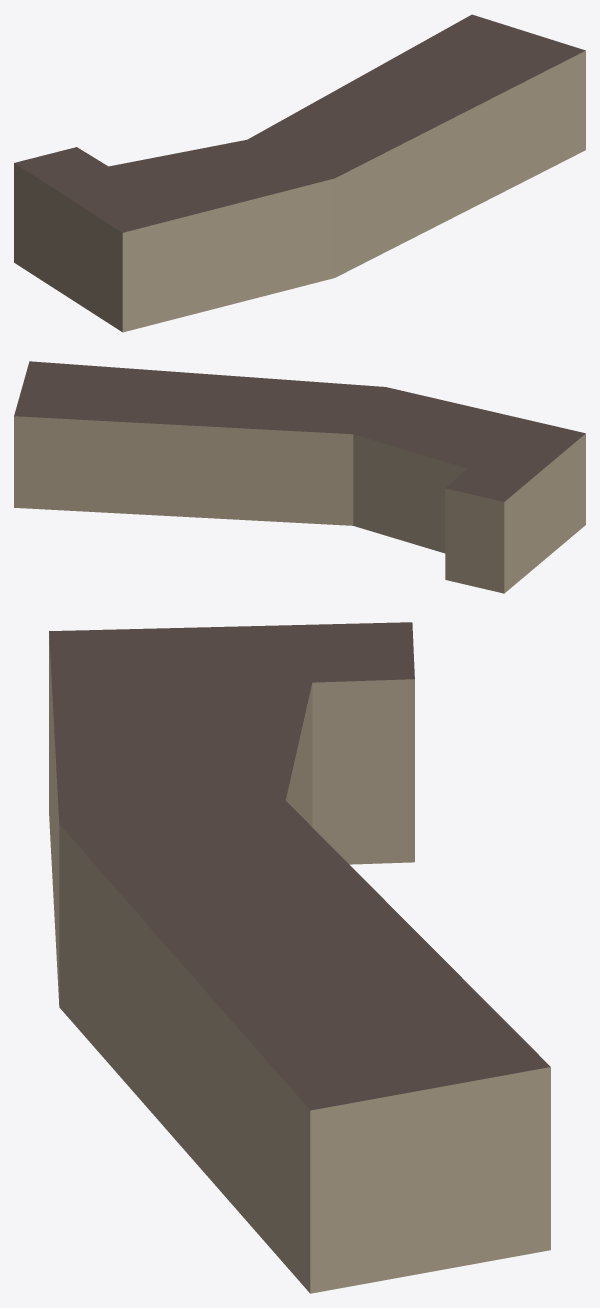
The picture shows the model from 3 angles, top to bottom: view 1: azimuth 30°, elevation 25°; view 2: azimuth 150°, elevation 25°; view 3: azimuth 270°, elevation 25°; orthographic projection. The views are drawn at different scales.
Visible parts, largest first — view 1: HP-w1512911306; view 2: HP-w1512911306; view 3: HP-w1512911306.
Boxes of the visible parts, x1,y1,x2,y2 form: HP-w1512911306: (14, 14, 585, 332); HP-w1512911306: (14, 361, 585, 593); HP-w1512911306: (49, 622, 550, 1293).
Bounding box in the file's own units: 51.44 × 9 × 22.34.
